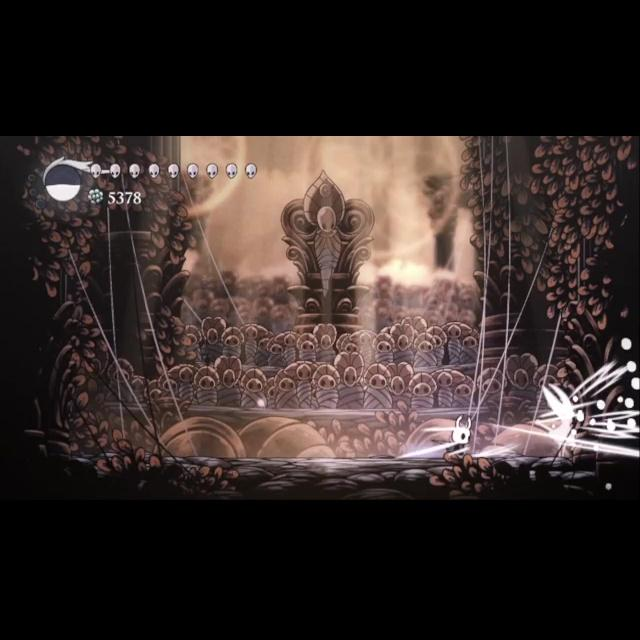EnemyDamaged: (534, 382, 582, 458)
Player: (430, 413, 476, 457)
